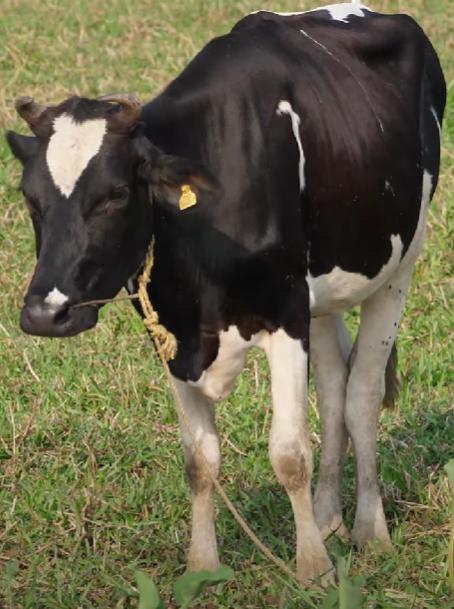cow: (8, 2, 446, 599)
